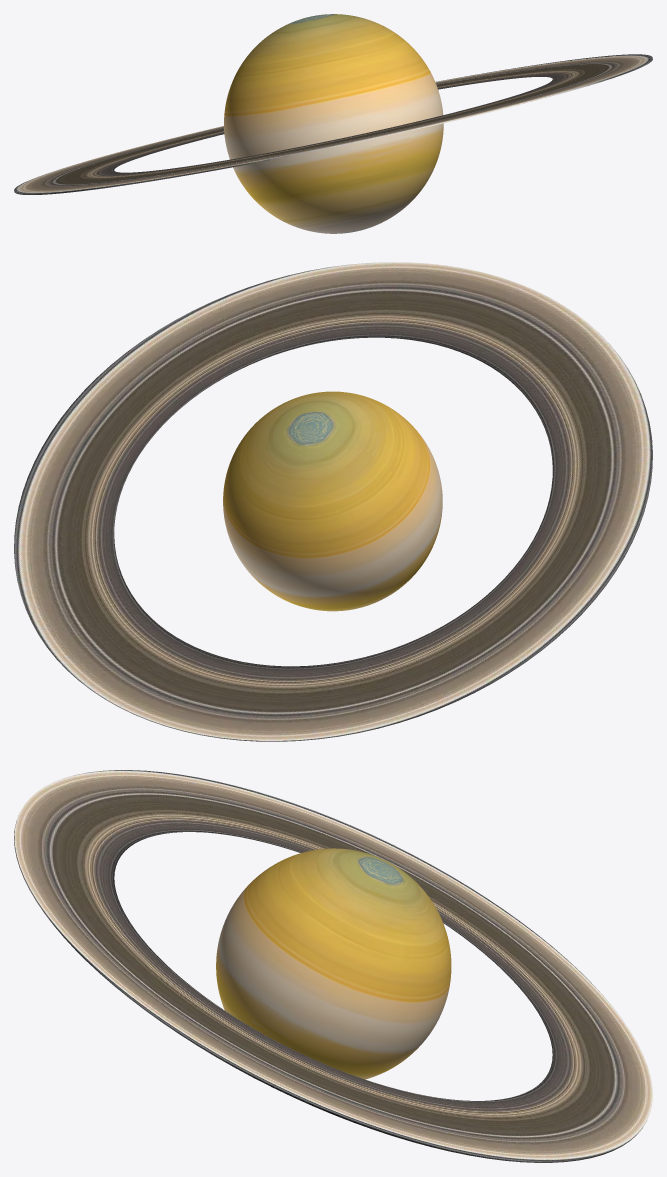
3 views of the same model, one above another, from view 1: azimuth 30°, elevation 25°; view 2: azimuth 150°, elevation 25°; view 3: azimuth 270°, elevation 25° (orthographic). The views are drawn at different scales.
Visible parts, largest first — view 1: Object_4, Object_5; view 2: Object_5, Object_4; view 3: Object_5, Object_4.
Part boxes in pixels (left/top/right/bottom): Object_4: left=224, top=14, right=443, bottom=233; Object_5: left=14, top=54, right=652, bottom=194; Object_5: left=14, top=262, right=652, bottom=741; Object_4: left=223, top=391, right=442, bottom=611; Object_5: left=14, top=770, right=652, bottom=1162; Object_4: left=216, top=848, right=451, bottom=1079.
Size of the model in its own units: 3.32 by 1.36 by 3.04.
Materials: 2 (2 with a texture image).
